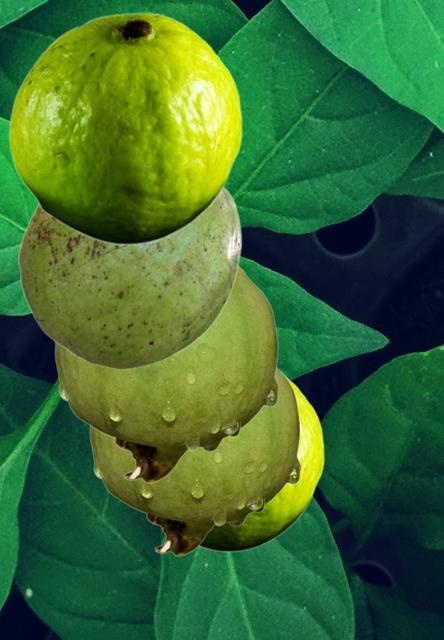guava: (8, 12, 241, 244), (54, 266, 278, 482), (17, 188, 241, 368), (89, 367, 300, 555), (199, 374, 323, 551)
